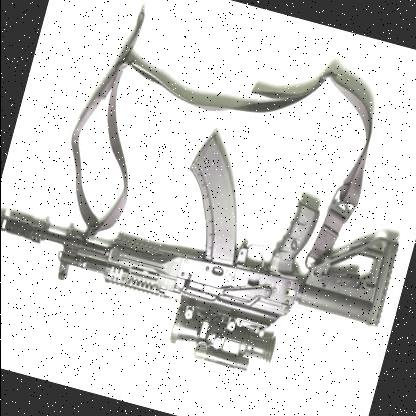rifle: (0, 93, 416, 416)
